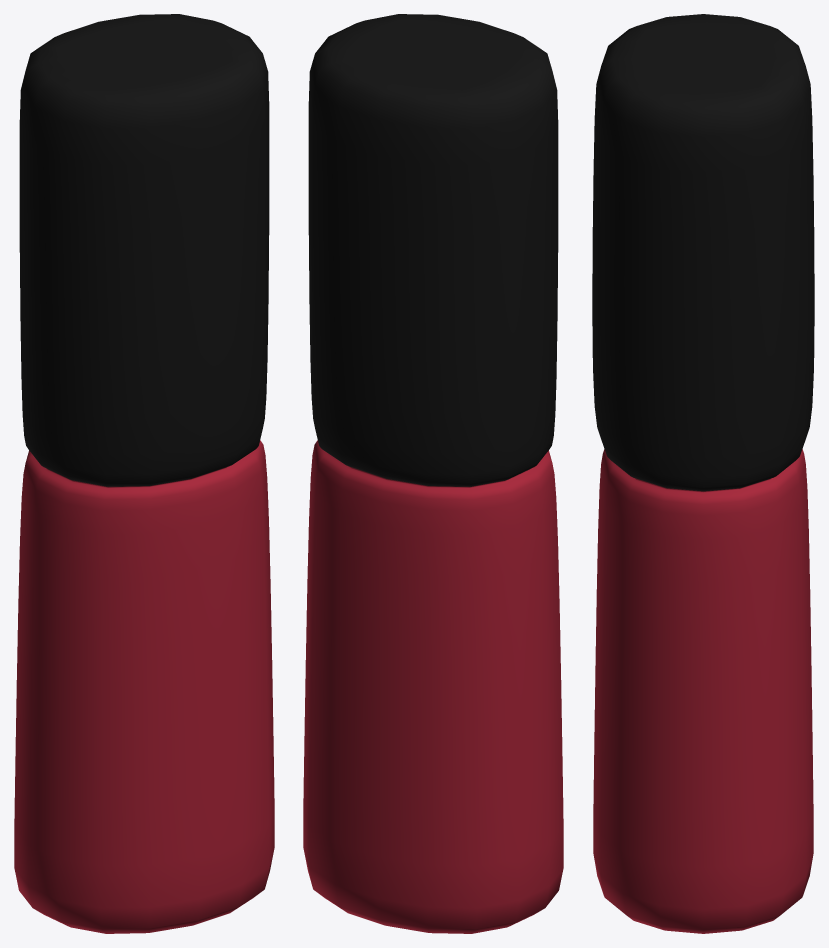
File: nailpolish2.fbx
The picture shows the model from 3 angles, left to right: view 1: azimuth 30°, elevation 25°; view 2: azimuth 150°, elevation 25°; view 3: azimuth 270°, elevation 25°; orthographic projection.
Parts seen in each view (by area): view 1: Cube.004; view 2: Cube.004; view 3: Cube.004.
Part boxes in pixels (box(x1,y1,x2,y2)): Cube.004: box(14, 14, 274, 933); Cube.004: box(303, 14, 563, 933); Cube.004: box(592, 14, 814, 933).
Size of the model in its own units: 50.21 by 174 by 42.15.
